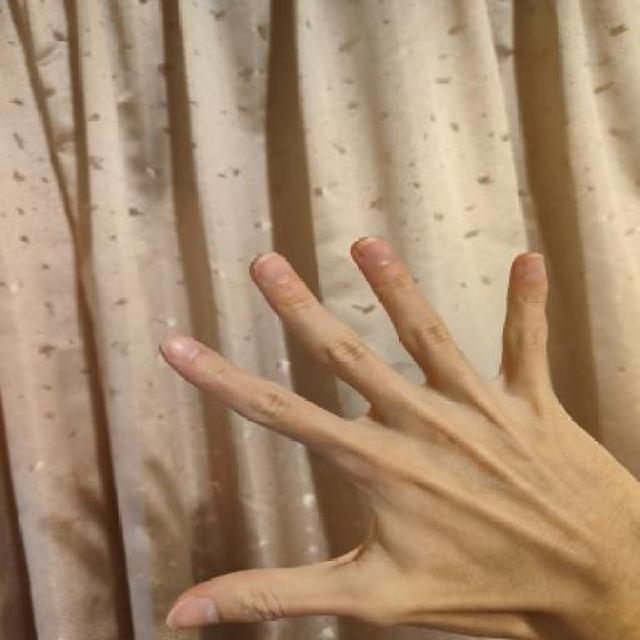no_glove: (137, 223, 640, 639)
